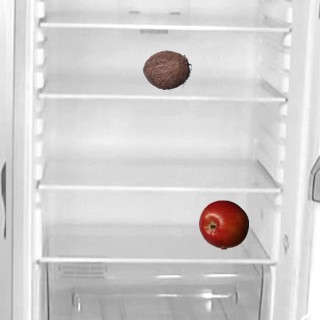Apple Braeburn: (198, 199, 248, 249)
Cocos: (141, 44, 191, 94)
